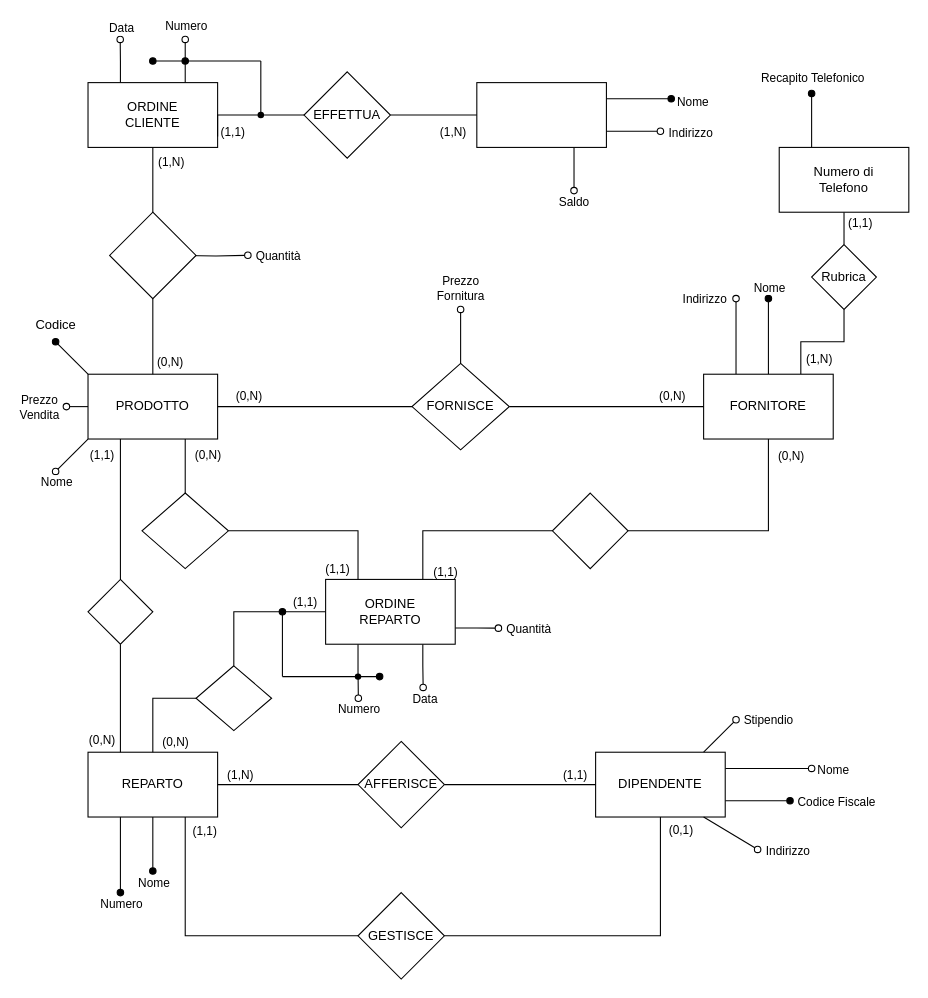
Image size: 928x998. Some labels were removed from this diagram. Here are the shapes that lost their labels. From the top down, the centre of each, then its label:
At point 541,114: "CLIENTE".
At point 152,255: "CHE COSA".
At point 184,530: "DI COSA".
At point 589,530: "DA CHI".
At point 120,611: "RESP.".
At point 233,698: "EMETTE".
